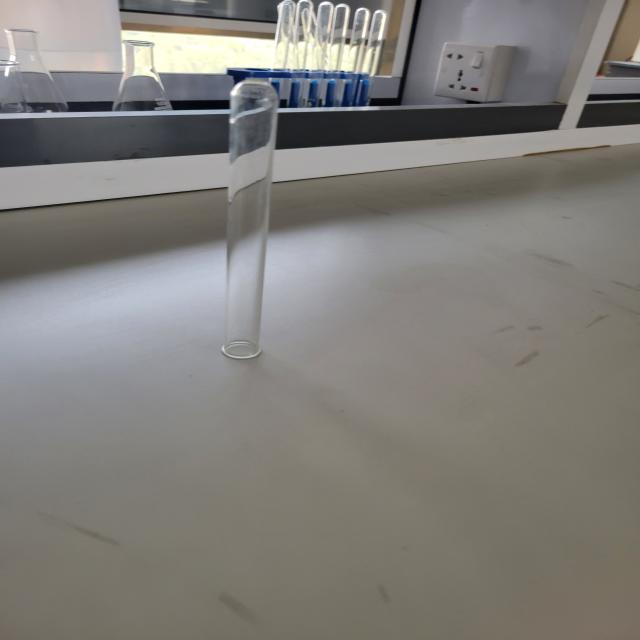Test_Tube: (180, 48, 320, 407)
